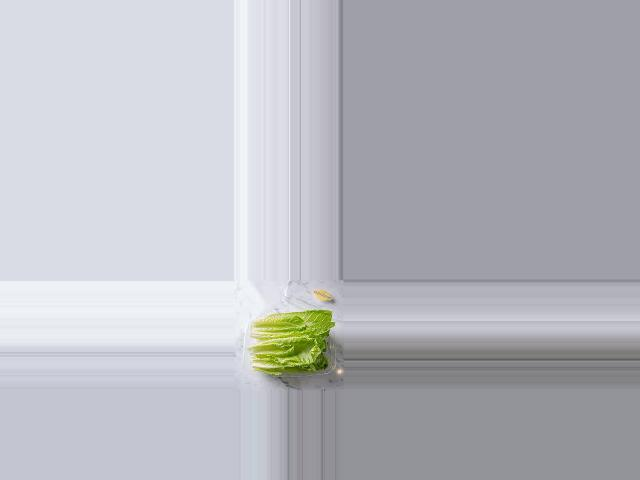lettuce: (248, 306, 335, 377)
